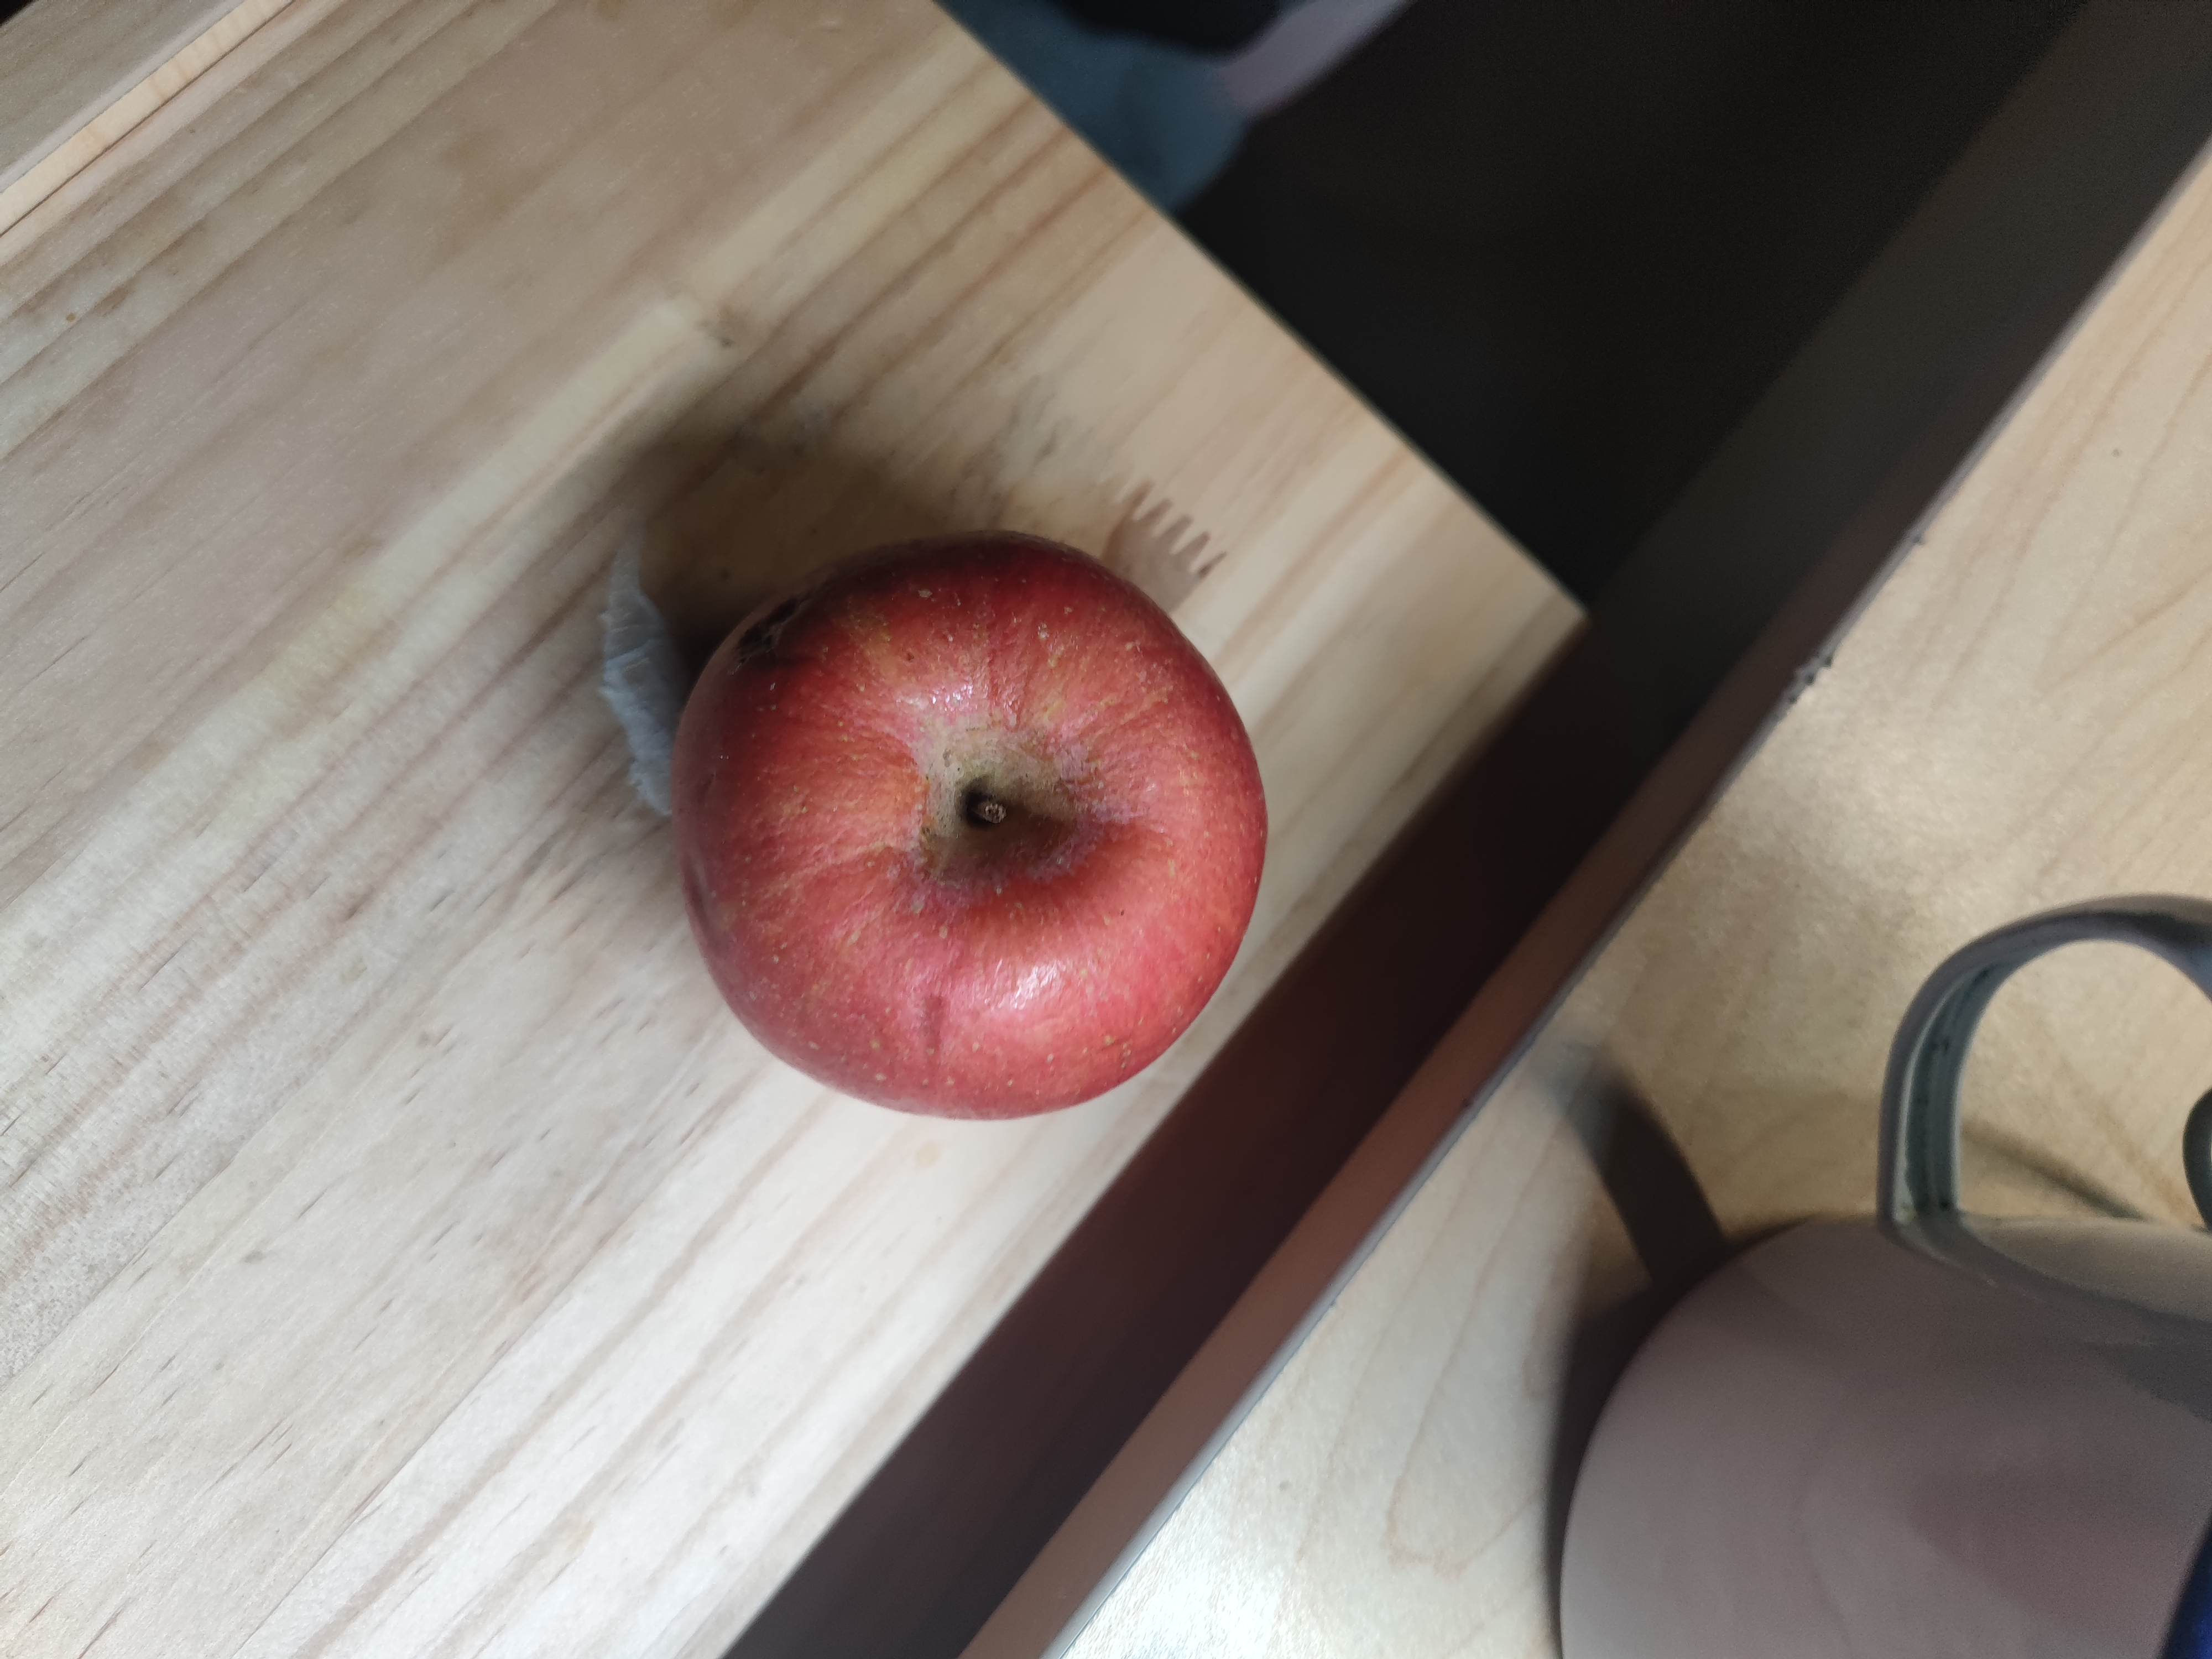apple: (664, 533, 1277, 1126)
